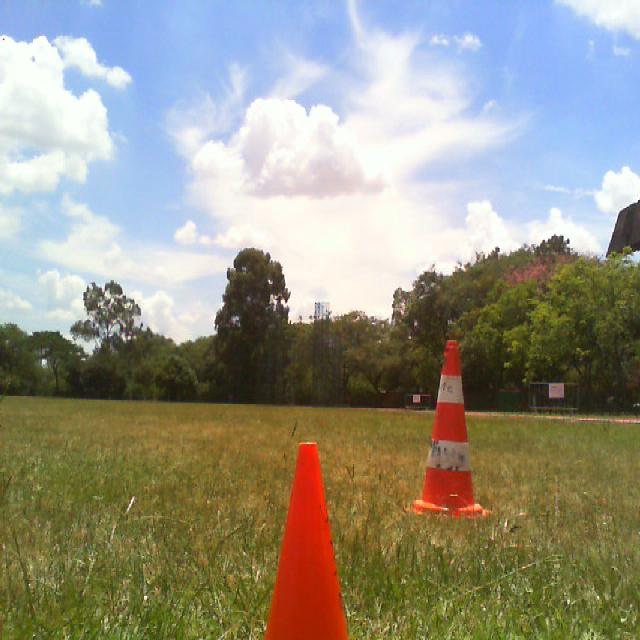cone: (263, 442, 346, 640), (403, 340, 490, 517)
